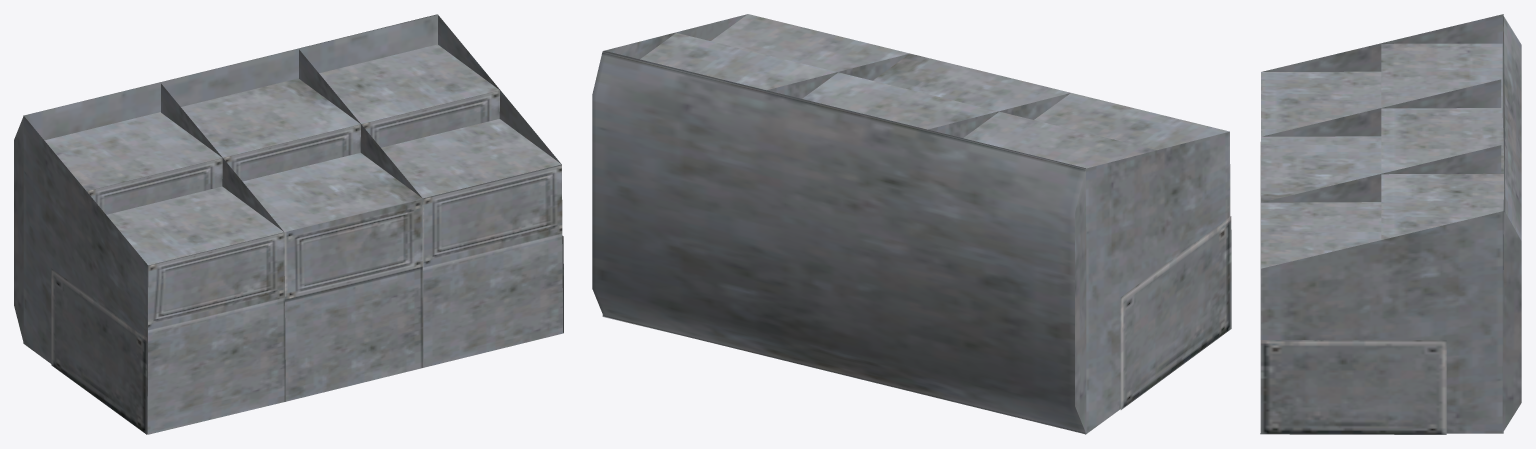
Rendered from edb_con_spice_container_l1.fbx.
The picture shows the model from 3 angles, left to right: view 1: azimuth 30°, elevation 25°; view 2: azimuth 150°, elevation 25°; view 3: azimuth 270°, elevation 25°; orthographic projection. The views are drawn at different scales.
Parts seen in each view (by area): view 1: mesh_node; view 2: mesh_node; view 3: mesh_node.
Part boxes in pixels (<box>): mesh_node: <box>14,14,563,434</box>; mesh_node: <box>592,14,1231,434</box>; mesh_node: <box>1260,14,1521,434</box>.
Bounding box in the file's own units: 0.4015 × 0.2101 × 0.2227.
